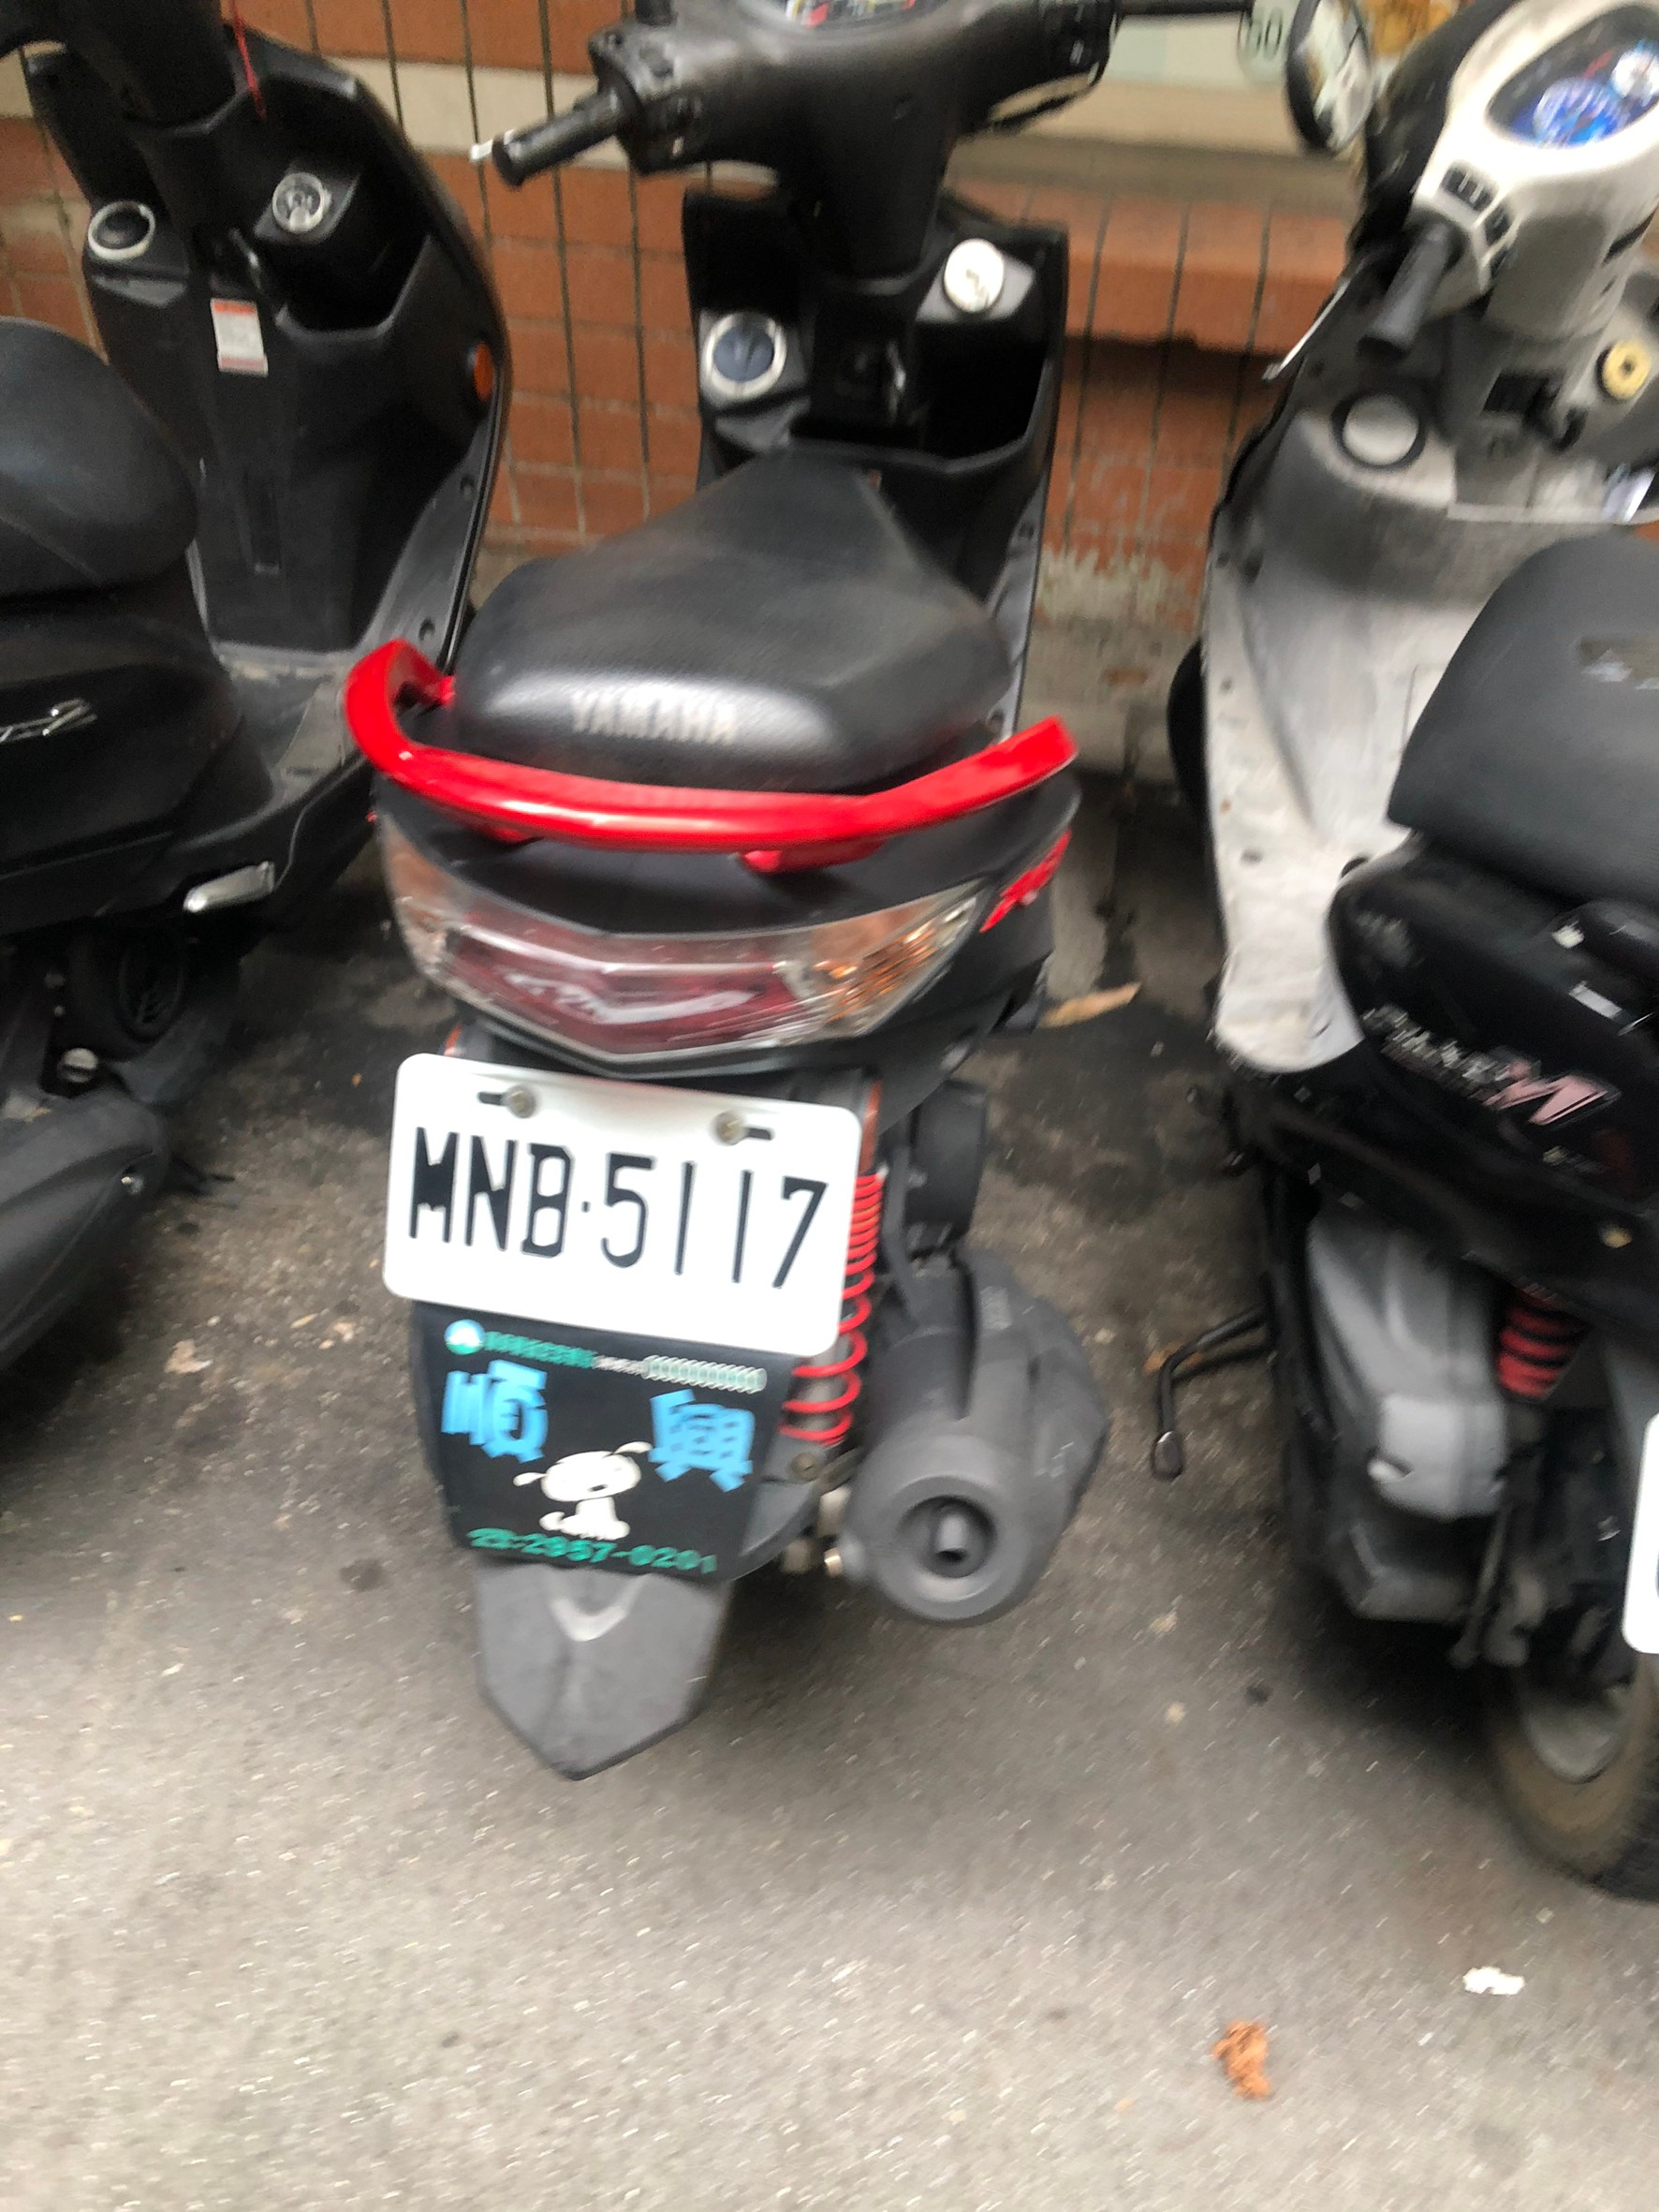LP: (386, 1050, 861, 1353)
